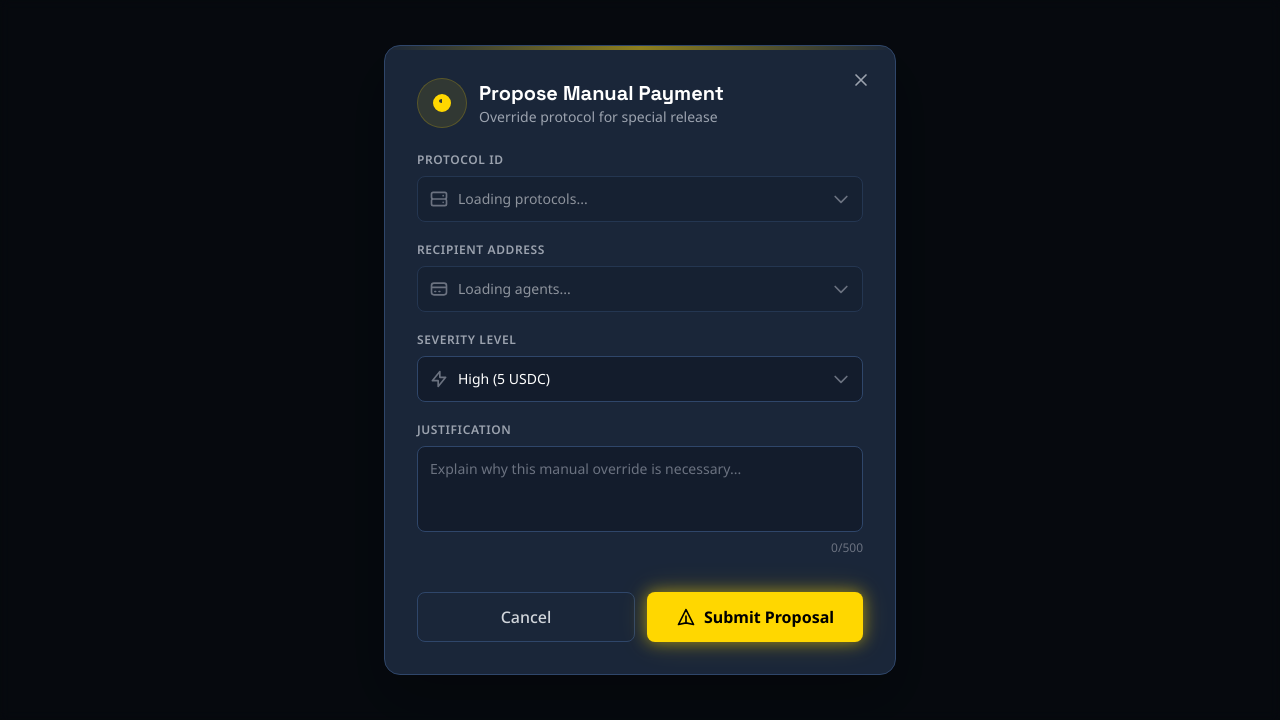
Test: ProposePaymentModal › shows character count for justification
Type "Test justification text" into the text box with placeholder "Explain why this manual override is necessary..." at [640, 489], box [417, 446, 863, 532]
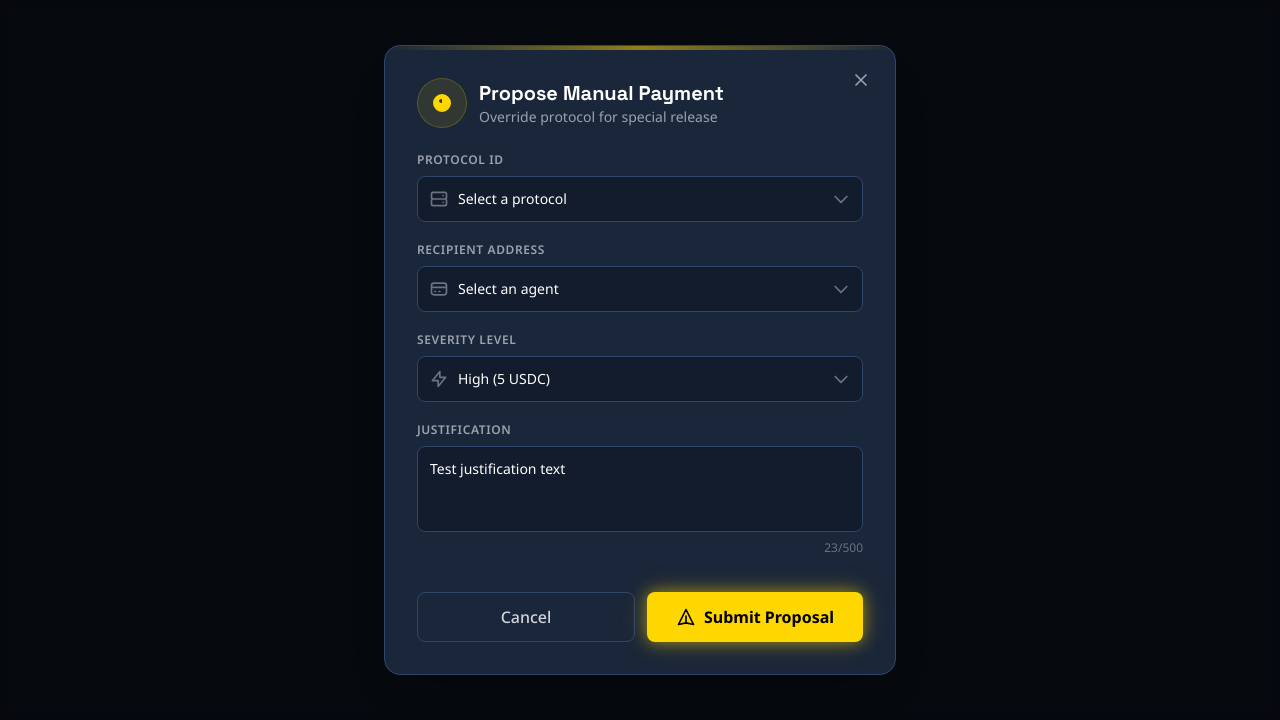
Expected: the text "23/500" is shown, [824, 540, 863, 556]
